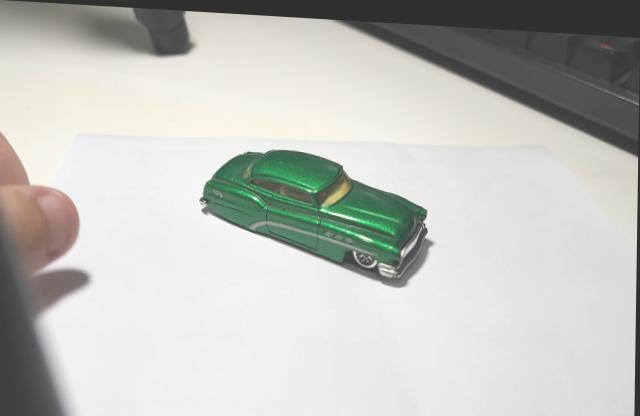06_MASERATI: (202, 146, 433, 284)
